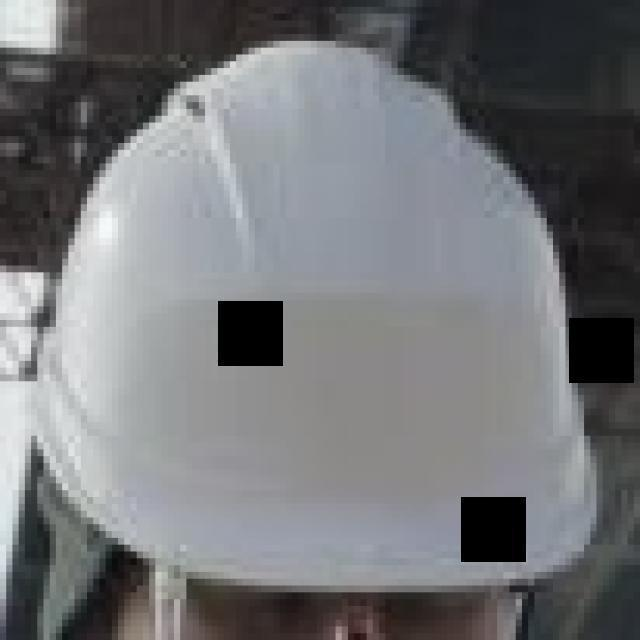white helmet: (25, 29, 605, 594)
